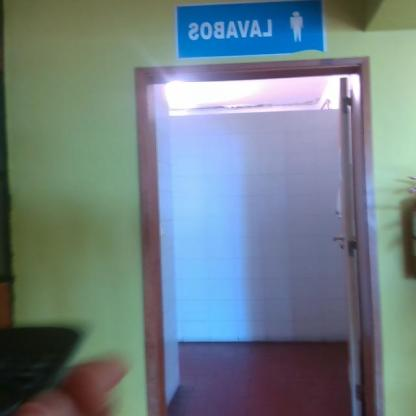door: (127, 49, 388, 416)
